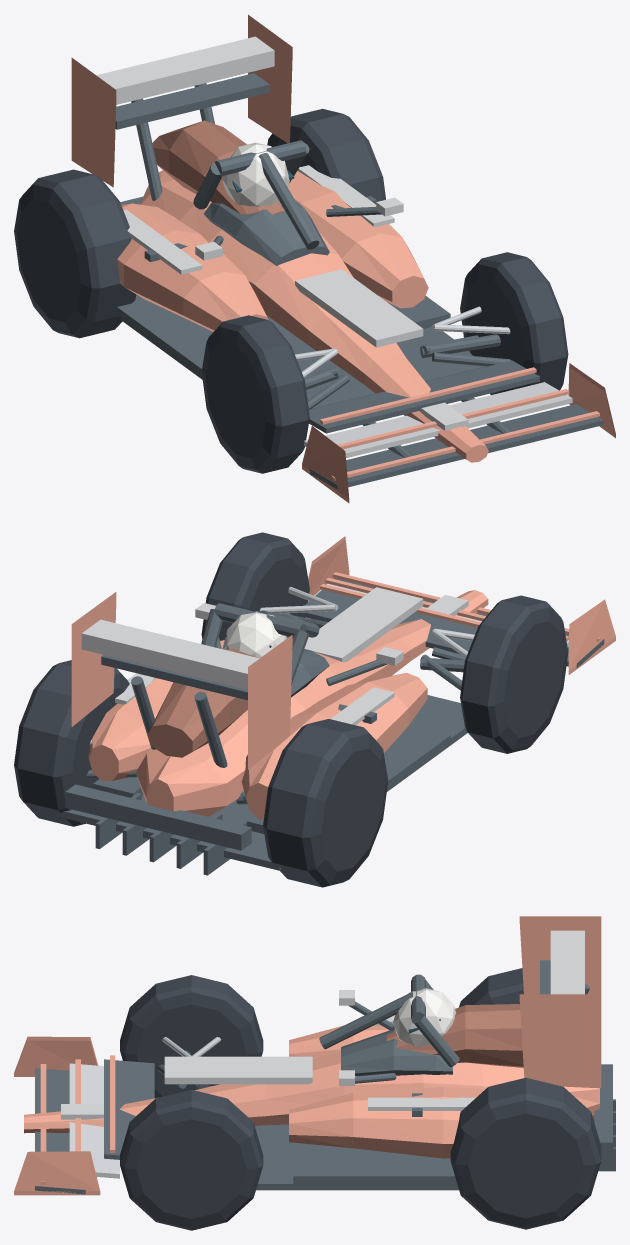
File: audi_mobile.glb
3 renders of one model, top to bottom at view 1: azimuth 30°, elevation 25°; view 2: azimuth 150°, elevation 25°; view 3: azimuth 270°, elevation 25°, orthographic. The views are drawn at different scales.
Visible parts, largest first — view 1: BODY_paint, BODY_carbon, BODY_accent, RearLeftWheel_rubber, FrontLeftWheel_rubber, FrontRightWheel_rubber, RearRightWheel_rubber, BODY_paint_dark, BODY_helmet, BODY_metal; view 2: BODY_paint, BODY_carbon, RearLeftWheel_rubber, FrontLeftWheel_rubber, BODY_accent, RearRightWheel_rubber, FrontRightWheel_rubber, BODY_paint_dark, BODY_helmet, BODY_metal; view 3: BODY_paint, BODY_carbon, RearRightWheel_rubber, FrontRightWheel_rubber, BODY_accent, FrontLeftWheel_rubber, BODY_paint_dark, BODY_helmet, RearLeftWheel_rubber.
Boxes of the visible parts, x1=… form: BODY_paint: x1=71, y1=14, x2=615, y2=503; BODY_carbon: x1=115, y1=73, x2=603, y2=489; BODY_accent: x1=96, y1=36, x2=572, y2=458; RearLeftWheel_rubber: x1=14, y1=169, x2=136, y2=338; FrontLeftWheel_rubber: x1=201, y1=315, x2=309, y2=473; FrontRightWheel_rubber: x1=460, y1=252, x2=568, y2=394; RearRightWheel_rubber: x1=267, y1=108, x2=385, y2=201; BODY_paint_dark: x1=152, y1=120, x2=284, y2=214; BODY_helmet: x1=222, y1=142, x2=289, y2=206; BODY_metal: x1=295, y1=306, x2=510, y2=377; BODY_paint: x1=71, y1=536, x2=615, y2=819; BODY_carbon: x1=56, y1=578, x2=604, y2=875; RearLeftWheel_rubber: x1=263, y1=719, x2=388, y2=887; FrontLeftWheel_rubber: x1=460, y1=595, x2=568, y2=753; BODY_accent: x1=81, y1=583, x2=568, y2=725; RearRightWheel_rubber: x1=14, y1=660, x2=129, y2=826; FrontRightWheel_rubber: x1=201, y1=532, x2=309, y2=640; BODY_paint_dark: x1=147, y1=649, x2=259, y2=757; BODY_helmet: x1=222, y1=611, x2=286, y2=657; BODY_metal: x1=90, y1=586, x2=474, y2=745; BODY_paint: x1=14, y1=916, x2=601, y2=1195; BODY_carbon: x1=35, y1=960, x2=615, y2=1194; RearRightWheel_rubber: x1=450, y1=1077, x2=601, y2=1229; FrontRightWheel_rubber: x1=120, y1=1089, x2=263, y2=1230; BODY_accent: x1=61, y1=930, x2=584, y2=1178; FrontLeftWheel_rubber: x1=120, y1=975, x2=263, y2=1098; BODY_paint_dark: x1=386, y1=1004, x2=523, y2=1067; BODY_helmet: x1=393, y1=988, x2=456, y2=1047; RearLeftWheel_rubber: x1=459, y1=968, x2=523, y2=1007.
Size of the model in its own units: 2.59 by 1.9 by 4.88.
